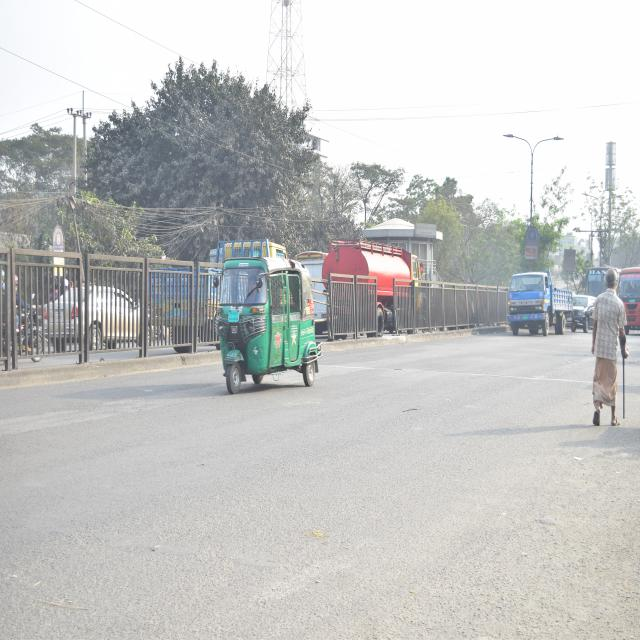bus: (586, 261, 615, 319), (616, 266, 640, 334)
car: (37, 270, 152, 358)
pickup-van: (507, 266, 571, 339)
truck: (320, 233, 426, 331)
